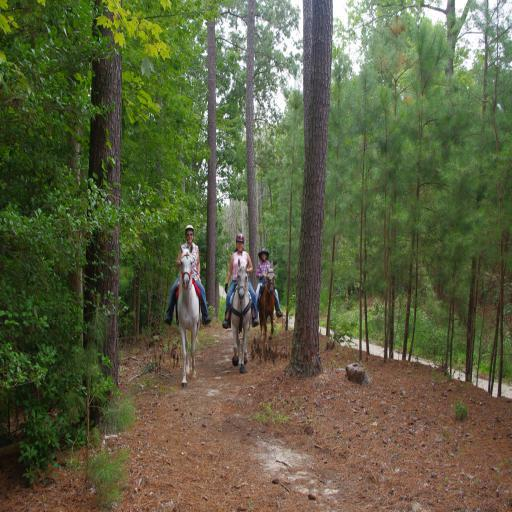Horse: (165, 250, 205, 387), (226, 258, 254, 370), (258, 264, 278, 342)
